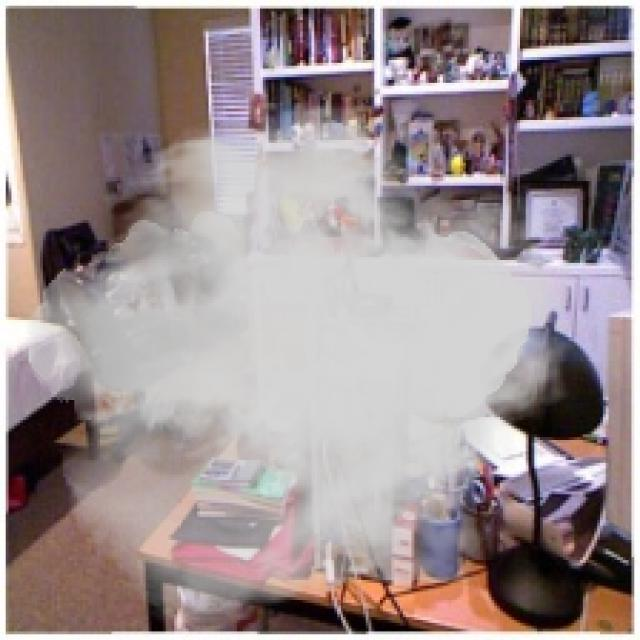smoke: (26, 94, 588, 629)
